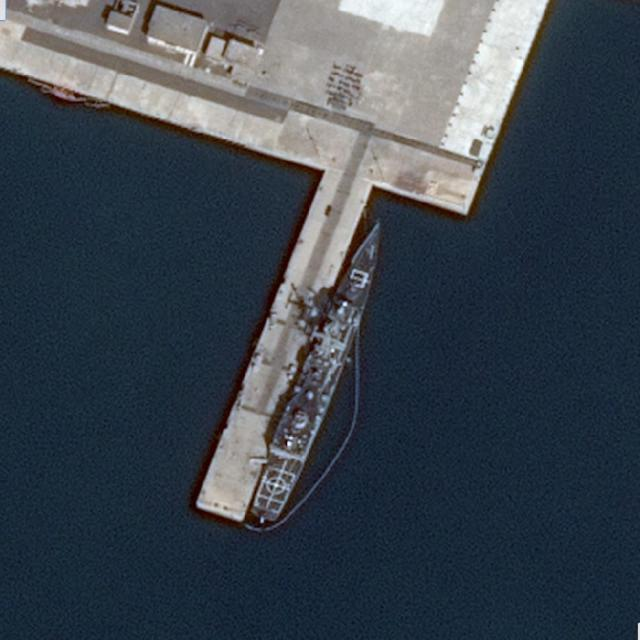Dock: (198, 169, 370, 520)
Frigate: (246, 213, 395, 526)
